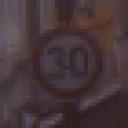speed_limit_30: (34, 26, 102, 102)
